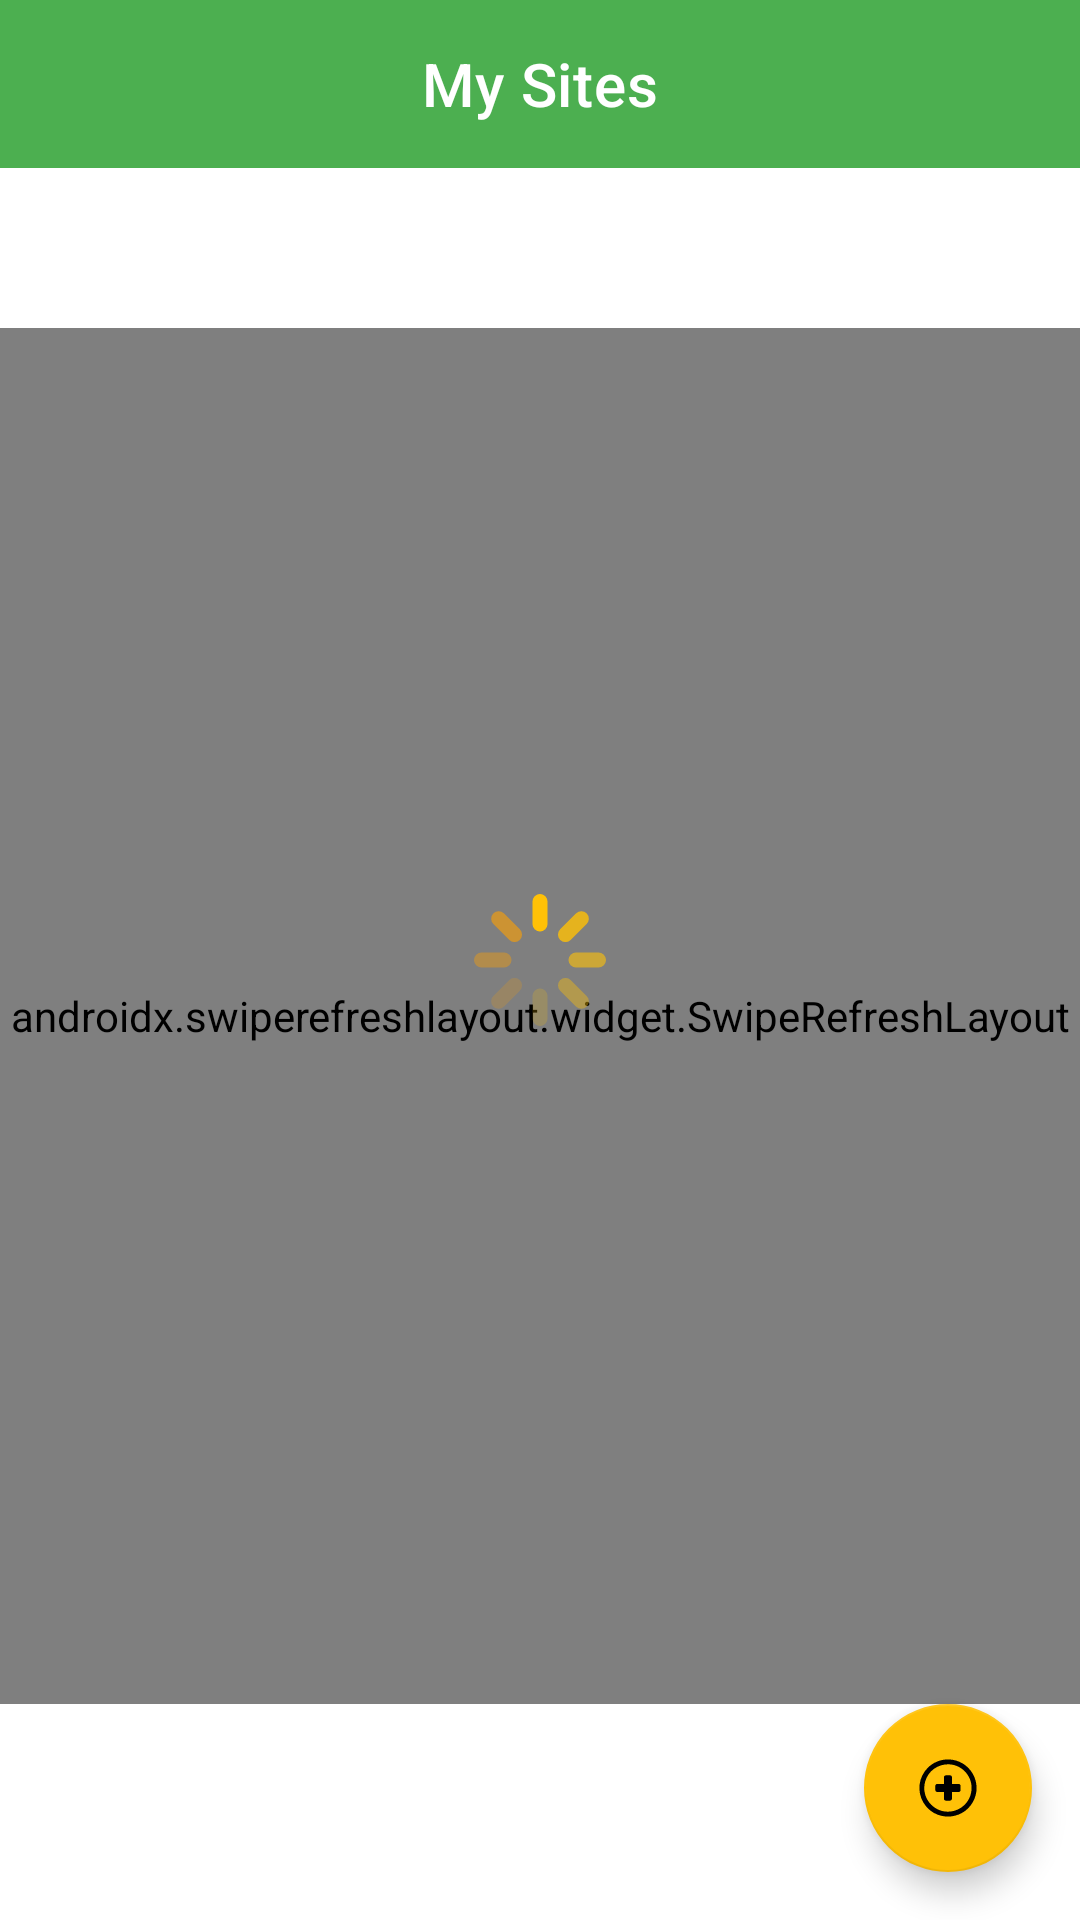

Named icons in this screenshot (1080x1920) and their bounding boxes, (x1, y1, x2, y2):
Add new site: (864, 1704, 1032, 1872)
